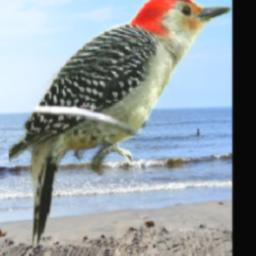Woodpecker: (9, 0, 232, 248)
